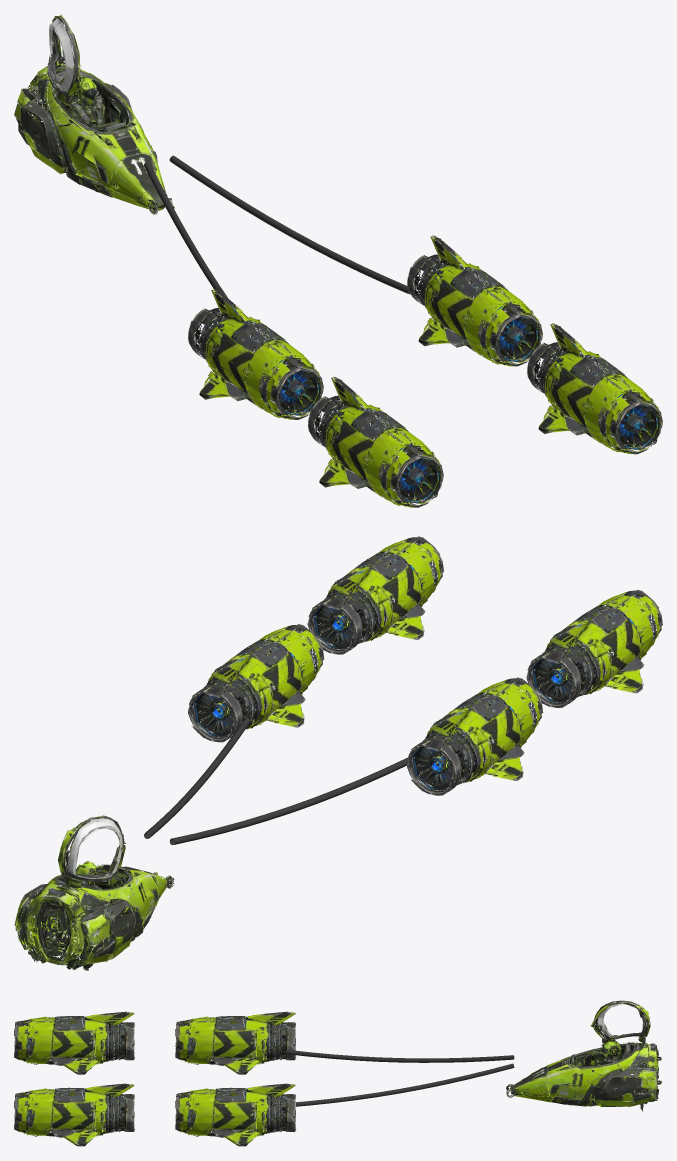
Rendered from hornet-rival.glb.
3 views of the same model, one above another, from view 1: azimuth 30°, elevation 25°; view 2: azimuth 150°, elevation 25°; view 3: azimuth 270°, elevation 25° (orthographic). The views are drawn at different scales.
Visible parts, largest first — view 1: hornet-cockpit-body, hornet-engine-left-front-body, hornet-engine-right-front-body, hornet-engine-left-rear-body, hornet-engine-right-rear-body, hornet-tow-cables; view 2: hornet-cockpit-body, hornet-engine-left-rear-body, hornet-engine-left-front-body, hornet-engine-right-front-body, hornet-engine-right-rear-body, hornet-tow-cables; view 3: hornet-cockpit-body, hornet-engine-left-front-body, hornet-engine-right-front-body, hornet-engine-right-rear-body, hornet-engine-left-rear-body, hornet-tow-cables.
Part boxes in pixels (x1,y1,x2,y2): hornet-cockpit-body: (14,14,174,215); hornet-engine-left-front-body: (308,377,443,507); hornet-engine-right-front-body: (527,323,662,454); hornet-engine-left-rear-body: (188,289,323,419); hornet-engine-right-rear-body: (407,235,542,366); hornet-tow-cables: (143,155,412,333); hornet-cockpit-body: (14,815,174,970); hornet-engine-left-rear-body: (407,677,543,795); hornet-engine-left-front-body: (526,590,662,707); hornet-engine-right-front-body: (307,536,443,654); hornet-engine-right-rear-body: (188,624,324,742); hornet-tow-cables: (144,717,411,844); hornet-cockpit-body: (506,1000,662,1111); hornet-engine-left-front-body: (14,1011,134,1074); hornet-engine-right-front-body: (14,1083,134,1146); hornet-engine-right-rear-body: (175,1083,296,1146); hornet-engine-left-rear-body: (175,1011,296,1074); hornet-tow-cables: (285,1049,514,1106).
Size of the model in its own units: 11.5 by 4.96 by 30.01.
Materials: 3 (2 with a texture image).
